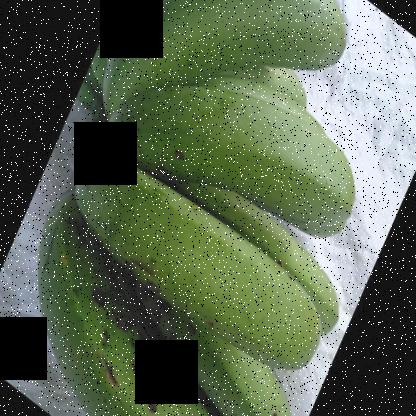unripe: (59, 135, 337, 382), (112, 89, 372, 246), (90, 1, 344, 117)
